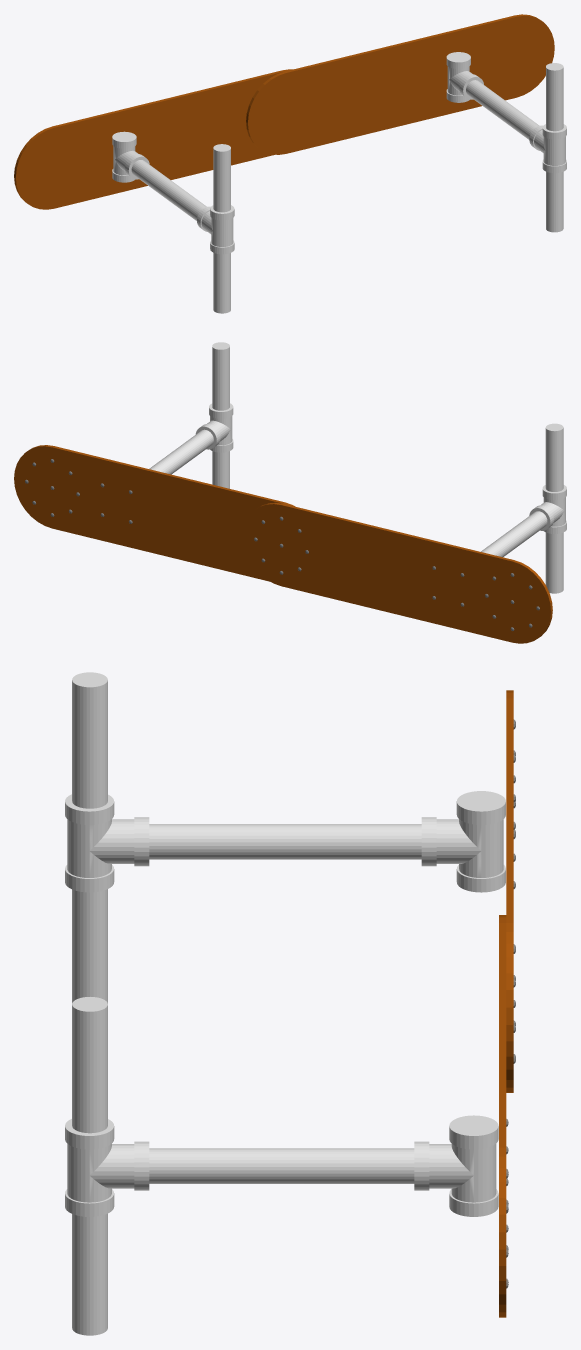
File: path.obj
3 views of the same model, one above another, from view 1: azimuth 30°, elevation 25°; view 2: azimuth 150°, elevation 25°; view 3: azimuth 270°, elevation 25° (orthographic). The views are drawn at different scales.
Parts seen in each view (by area): view 1: path; view 2: path; view 3: path.
Boxes of the visible parts, x1,y1,x2,y2 form: path: (14, 14, 566, 313); path: (14, 342, 566, 643); path: (65, 672, 515, 1335).
Bounding box in the file's own units: 1.22 × 0.3505 × 0.4424.
1 material, 1 textured.
